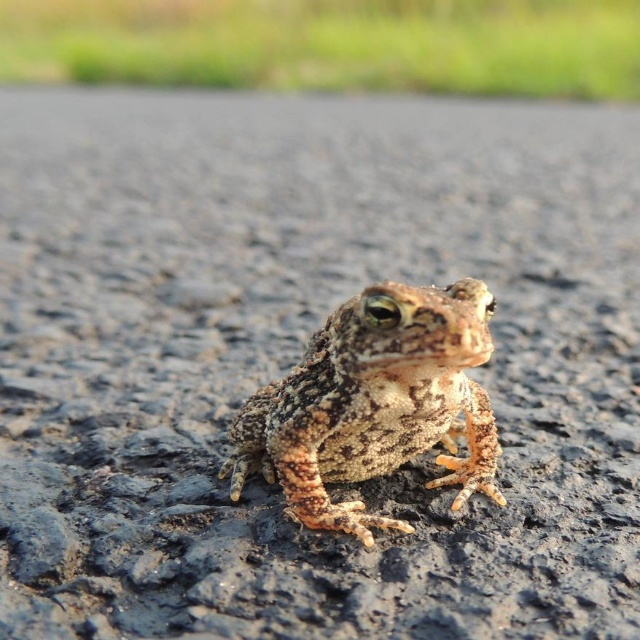Frog: (217, 277, 509, 546)
